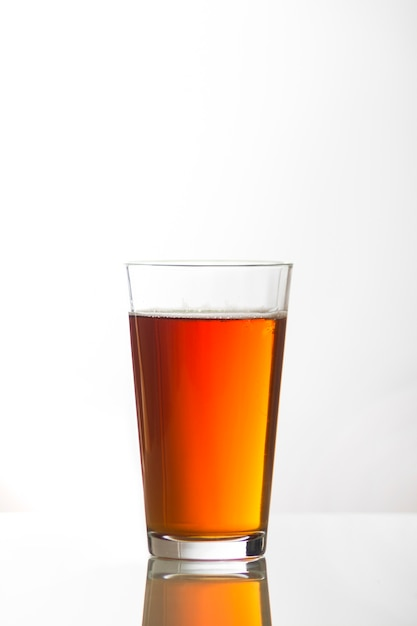alcohol: (125, 255, 292, 561)
